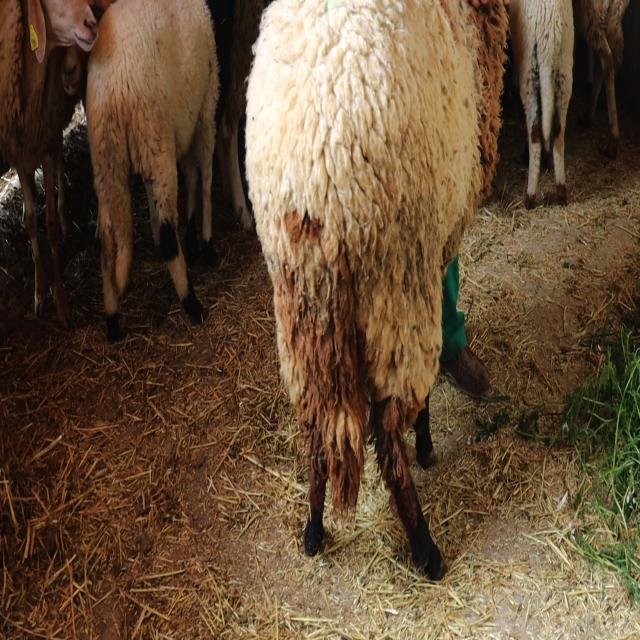Score_5: (245, 0, 508, 579)
